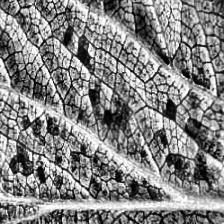Angular Leafspot: (0, 25, 224, 224)
